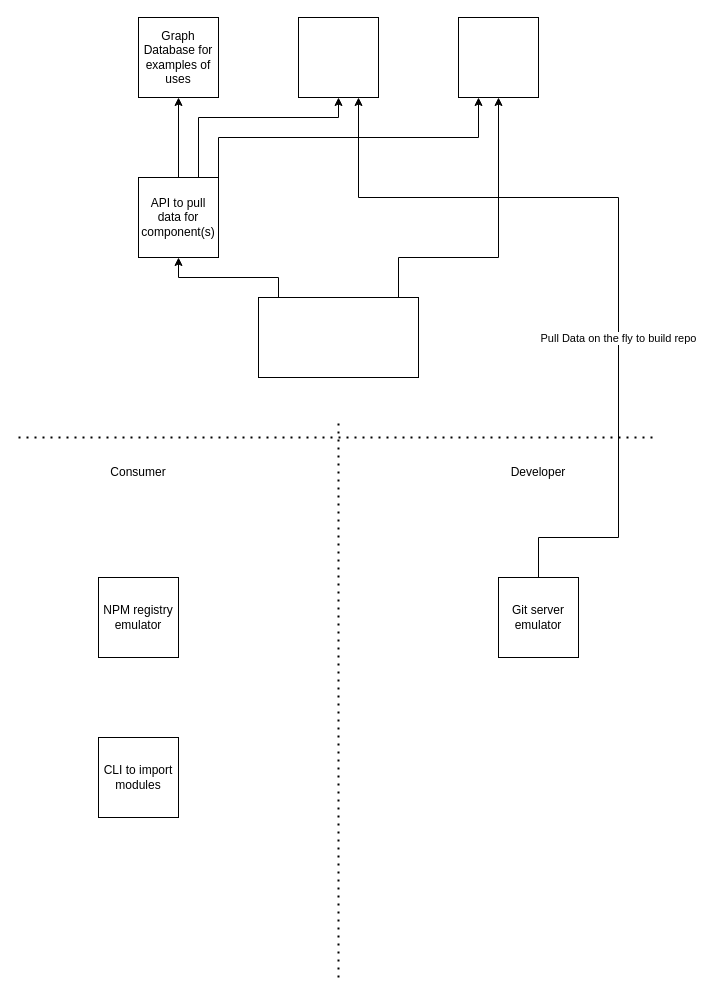
The diagram is 713 pixels wide and 997 high, and some of its shapes have lost their labels. Here are the shapes that lost their labels. From the top down, the centre of each, then its label:
At pixel 338 57: "NoSQL database for non-relational database".
At pixel 498 57: "Firebase Auth".
At pixel 338 337: "Frontend Web App to display, manage, create, develop & use / import components".
